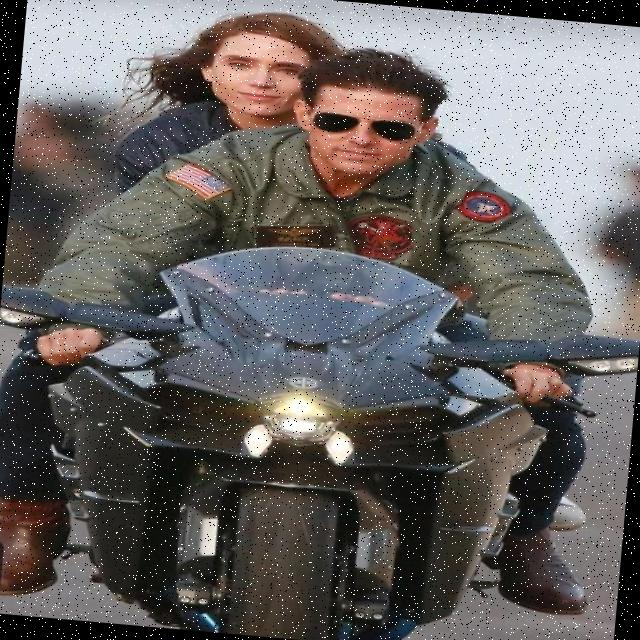No helmet: (297, 48, 445, 183)
